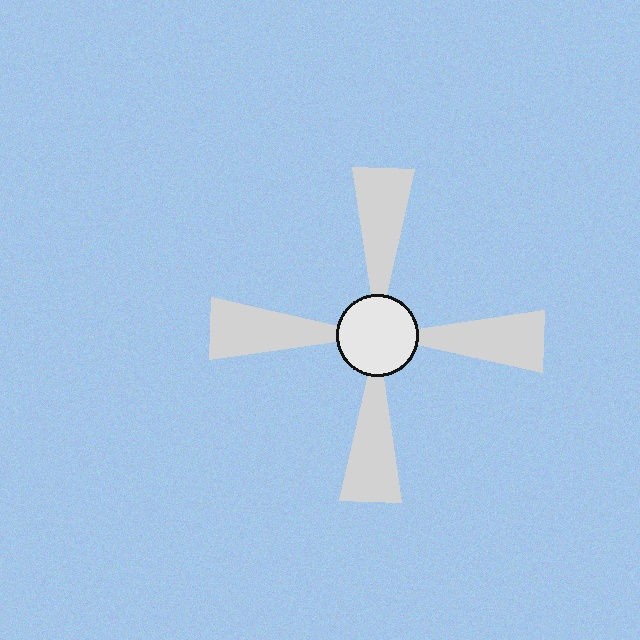fan: (180, 138, 574, 532)
